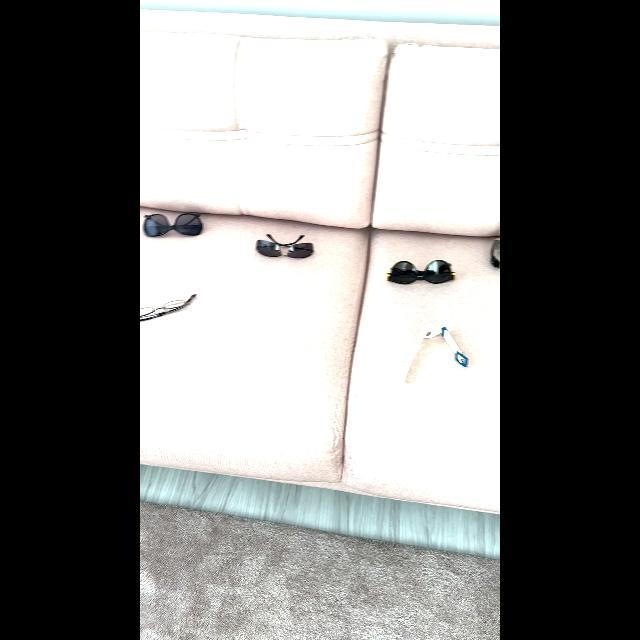eyewear: (140, 280, 206, 334), (381, 252, 462, 288), (252, 228, 324, 264), (140, 208, 210, 242)
